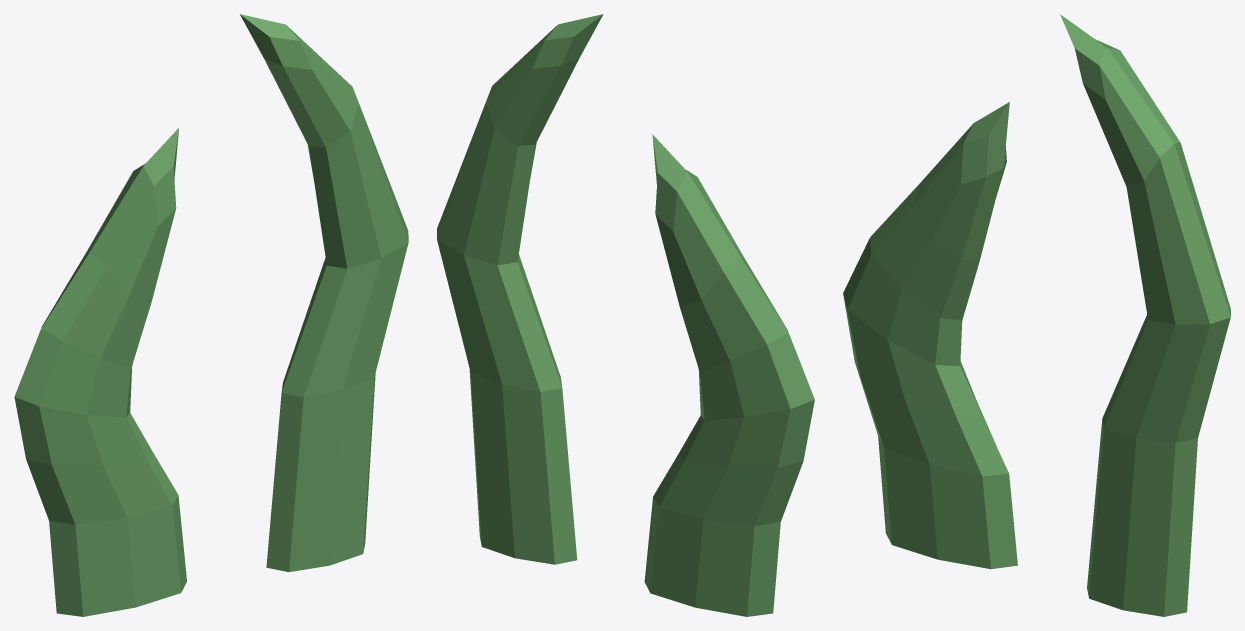
File: grass1.glb
3 views of the same model, side by side, from view 1: azimuth 30°, elevation 25°; view 2: azimuth 150°, elevation 25°; view 3: azimuth 330°, elevation 25° (orthographic). The views are drawn at different scales.
Visible parts, largest first — view 1: Grass1; view 2: Grass1; view 3: Grass1.
Boxes of the visible parts, x1=… form: Grass1: x1=14, y1=14, x2=408, y2=616; Grass1: x1=437, y1=14, x2=814, y2=616; Grass1: x1=843, y1=14, x2=1230, y2=616.
Bounding box in the file's own units: 0.3865 × 0.5326 × 0.0569.
